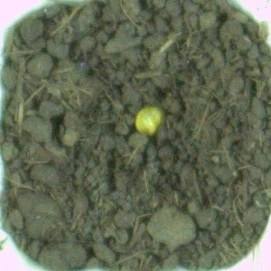pepper seed: (53, 36, 216, 174)
